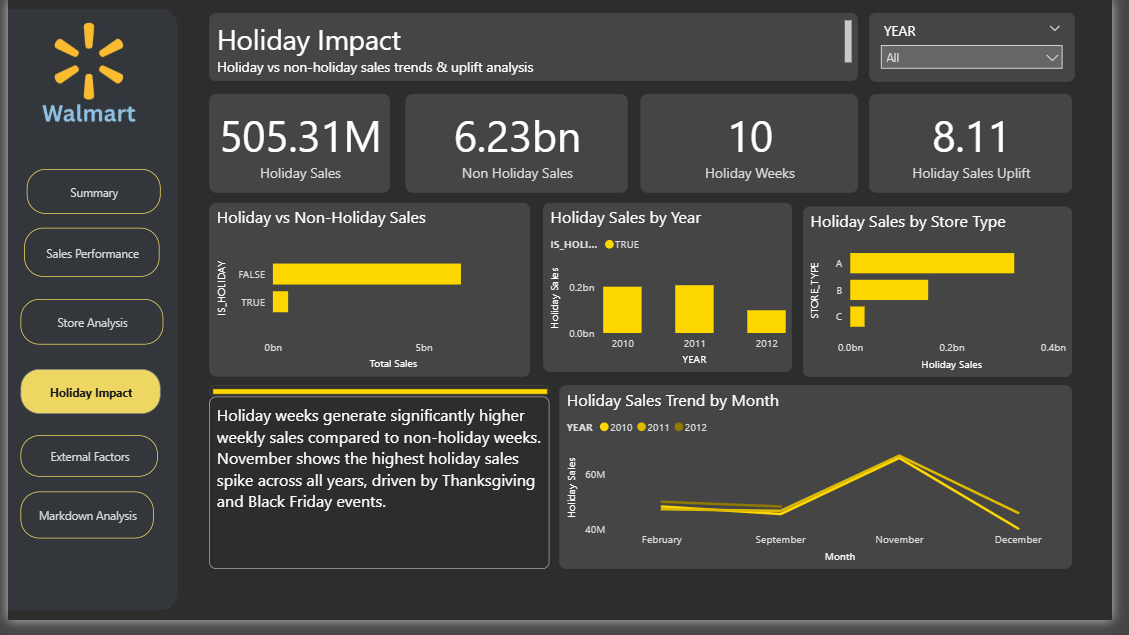

The dashboard page shown, as its layout file describes it:
{"tool":"powerbi","page":{"name":"4.Holiday Impact","canvas":[1280,720],"ordinal":3},"visuals":[{"type":"card","fields":{"Values":["WALMART_CLEAN.Holiday Sales"]},"box":[233.8,109.9,209.9,114.1],"z":0},{"type":"card","fields":{"Values":["WALMART_CLEAN.Holiday Sales Uplift"]},"box":[998.6,109.9,235.2,114.1],"z":1000},{"type":"card","fields":{"Values":["WALMART_CLEAN.Holiday Weeks"]},"box":[733.8,109.9,252.1,114.1],"z":2000},{"type":"card","fields":{"Values":["WALMART_CLEAN.Non Holiday Sales"]},"box":[460.6,109.9,257.7,114.1],"z":3000},{"type":"clusteredBarChart","title":"Holiday vs Non-Holiday Sales","fields":{"Category":["WALMART_CLEAN.IS_HOLIDAY"],"Y":["WALMART_CLEAN.Total Sales"]},"box":[233.8,236.6,371.8,201.4],"z":4000},{"type":"clusteredColumnChart","title":"Holiday Sales by Year","fields":{"Category":["WALMART_CLEAN.YEAR"],"Y":["WALMART_CLEAN.Holiday Sales"],"Series":["WALMART_CLEAN.IS_HOLIDAY"]},"box":[620.3,236.7,288.6,196.2],"z":5000},{"type":"clusteredBarChart","title":"Holiday Sales by Store Type","fields":{"Category":["WALMART_CLEAN.STORE_TYPE"],"Y":["WALMART_CLEAN.Holiday Sales"]},"box":[921.6,240.5,312.2,197.3],"z":6000},{"type":"lineChart","title":"Holiday Sales Trend by Month","fields":{"Category":["WALMART_CLEAN.SALE_DATE.Variation.Date Hierarchy.Month"],"Y":["WALMART_CLEAN.Holiday Sales"],"Series":["WALMART_CLEAN.YEAR"]},"box":[639.4,447.9,594.4,212.7],"z":7000},{"type":"slicer","fields":{"Values":["WALMART_CLEAN.YEAR"]},"box":[998.6,15.5,238,80.3],"z":8000},{"type":"textbox","box":[233.8,15.5,752.1,78.9],"z":9000},{"type":"textbox","box":[233.8,460.6,394.4,200],"z":10000},{"type":"shape","box":[233.8,447.9,394.4,12.7],"z":11000},{"type":"actionButton","title":"Overview","box":[19,264.6,157,57],"z":12000},{"type":"actionButton","box":[13.9,348.1,165.8,53.2],"z":14000},{"type":"actionButton","box":[13.9,429.1,162,51.9],"z":15000},{"type":"actionButton","box":[13.9,506.3,159.5,48.1],"z":16000},{"type":"actionButton","box":[13.9,570.9,154.4,54.4],"z":17000},{"type":"actionButton","box":[21.1,197.2,154.9,52.1],"z":18000}]}

Visuals, with their boxes on the page's 1280x720 design canvas (x1, y1, x2, y2). These are canvas units, not pixel positions in the 1129x635 screenshot, which may show the page scaled, cropped or inside an application window:
card - WALMART_CLEAN.Holiday Sales: {"left": 234, "top": 110, "right": 444, "bottom": 224}
card - WALMART_CLEAN.Holiday Sales Uplift: {"left": 999, "top": 110, "right": 1234, "bottom": 224}
card - WALMART_CLEAN.Holiday Weeks: {"left": 734, "top": 110, "right": 986, "bottom": 224}
card - WALMART_CLEAN.Non Holiday Sales: {"left": 461, "top": 110, "right": 718, "bottom": 224}
"Holiday vs Non-Holiday Sales" clusteredBarChart: {"left": 234, "top": 237, "right": 606, "bottom": 438}
"Holiday Sales by Year" clusteredColumnChart: {"left": 620, "top": 237, "right": 909, "bottom": 433}
"Holiday Sales by Store Type" clusteredBarChart: {"left": 922, "top": 240, "right": 1234, "bottom": 438}
"Holiday Sales Trend by Month" lineChart: {"left": 639, "top": 448, "right": 1234, "bottom": 661}
slicer - WALMART_CLEAN.YEAR: {"left": 999, "top": 16, "right": 1237, "bottom": 96}
textbox: {"left": 234, "top": 16, "right": 986, "bottom": 94}
textbox: {"left": 234, "top": 461, "right": 628, "bottom": 661}
shape: {"left": 234, "top": 448, "right": 628, "bottom": 461}
"Overview" actionButton: {"left": 19, "top": 265, "right": 176, "bottom": 322}
actionButton: {"left": 14, "top": 348, "right": 180, "bottom": 401}
actionButton: {"left": 14, "top": 429, "right": 176, "bottom": 481}
actionButton: {"left": 14, "top": 506, "right": 173, "bottom": 554}
actionButton: {"left": 14, "top": 571, "right": 168, "bottom": 625}
actionButton: {"left": 21, "top": 197, "right": 176, "bottom": 249}
